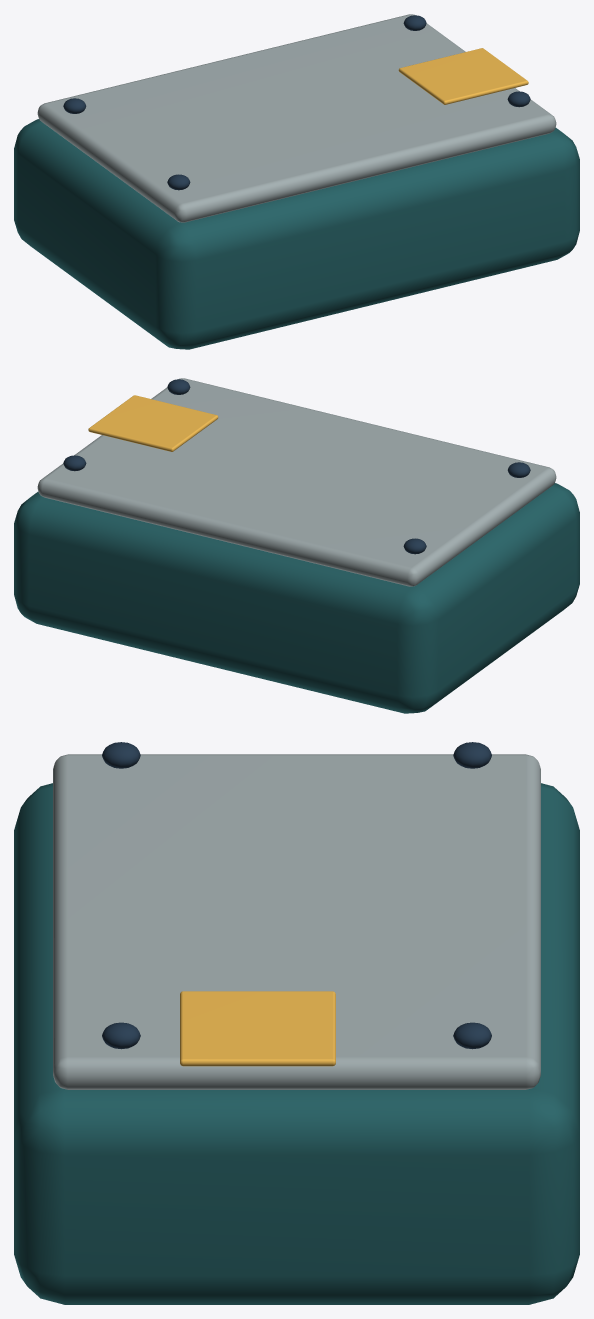
The model's file is CouplingStation.fbx.
The picture shows the model from 3 angles, top to bottom: view 1: azimuth 30°, elevation 25°; view 2: azimuth 150°, elevation 25°; view 3: azimuth 270°, elevation 25°; orthographic projection. The views are drawn at different scales.
Visible parts, largest first — view 1: PumpCase, TopPlate, SafetyMark; view 2: PumpCase, TopPlate, SafetyMark; view 3: TopPlate, PumpCase, SafetyMark, PlateBolt.002, PlateBolt.003, PlateBolt, PlateBolt.001.
Boxes of the visible parts, left/top/right/bottom form: PumpCase: left=14, top=119, right=579, bottom=349; TopPlate: left=37, top=14, right=556, bottom=222; SafetyMark: left=398, top=48, right=528, bottom=104; PumpCase: left=14, top=483, right=579, bottom=713; TopPlate: left=37, top=378, right=556, bottom=586; SafetyMark: left=88, top=395, right=218, bottom=451; TopPlate: left=53, top=754, right=540, bottom=1089; PumpCase: left=14, top=783, right=579, bottom=1304; SafetyMark: left=180, top=991, right=335, bottom=1066; PlateBolt.002: left=453, top=742, right=491, bottom=768; PlateBolt.003: left=102, top=742, right=140, bottom=768; PlateBolt: left=453, top=1022, right=491, bottom=1049; PlateBolt.001: left=102, top=1022, right=140, bottom=1049.
Bounding box in the file's own units: 42 × 14.9 × 29.
